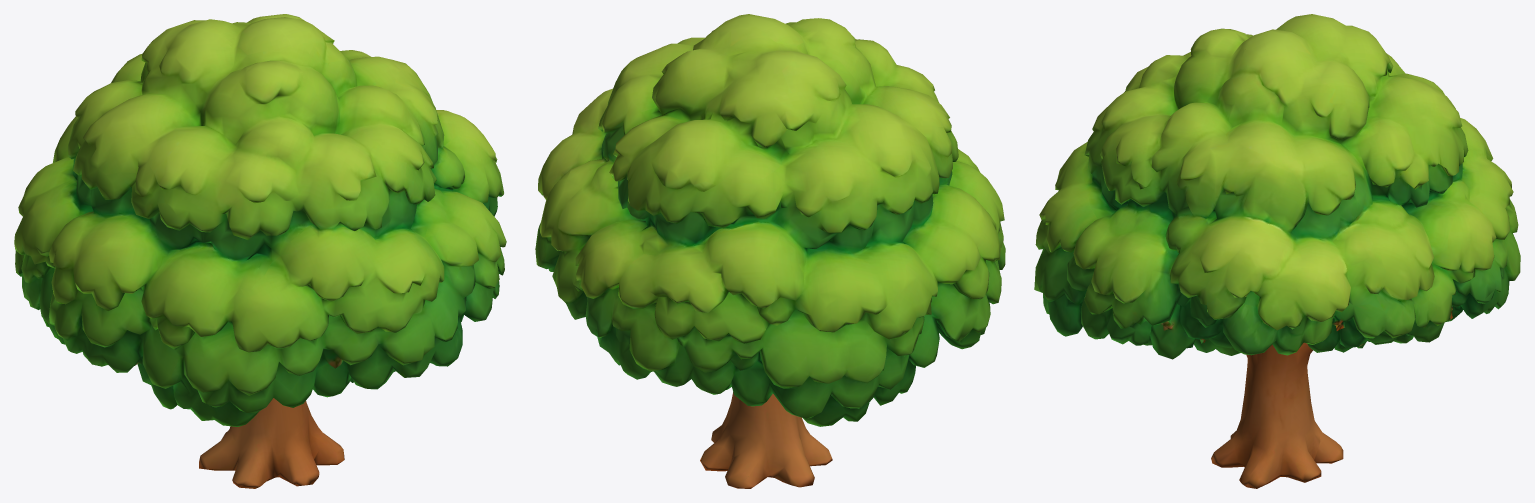
The model's file is round_tree.glb.
The picture shows the model from 3 angles, left to right: view 1: azimuth 30°, elevation 25°; view 2: azimuth 150°, elevation 25°; view 3: azimuth 270°, elevation 25°; orthographic projection. The views are drawn at different scales.
Parts seen in each view (by area): view 1: tripo_node_8d6f911c-592e-41ea-adbb-aeb6db1c4bee; view 2: tripo_node_8d6f911c-592e-41ea-adbb-aeb6db1c4bee; view 3: tripo_node_8d6f911c-592e-41ea-adbb-aeb6db1c4bee.
Boxes of the visible parts, <box> form: tripo_node_8d6f911c-592e-41ea-adbb-aeb6db1c4bee: <box>14,14,506,488</box>; tripo_node_8d6f911c-592e-41ea-adbb-aeb6db1c4bee: <box>535,14,1005,488</box>; tripo_node_8d6f911c-592e-41ea-adbb-aeb6db1c4bee: <box>1034,14,1520,488</box>.
Bounding box in the file's own units: 2.55 × 2.5 × 2.58.
1 material, 1 textured.
